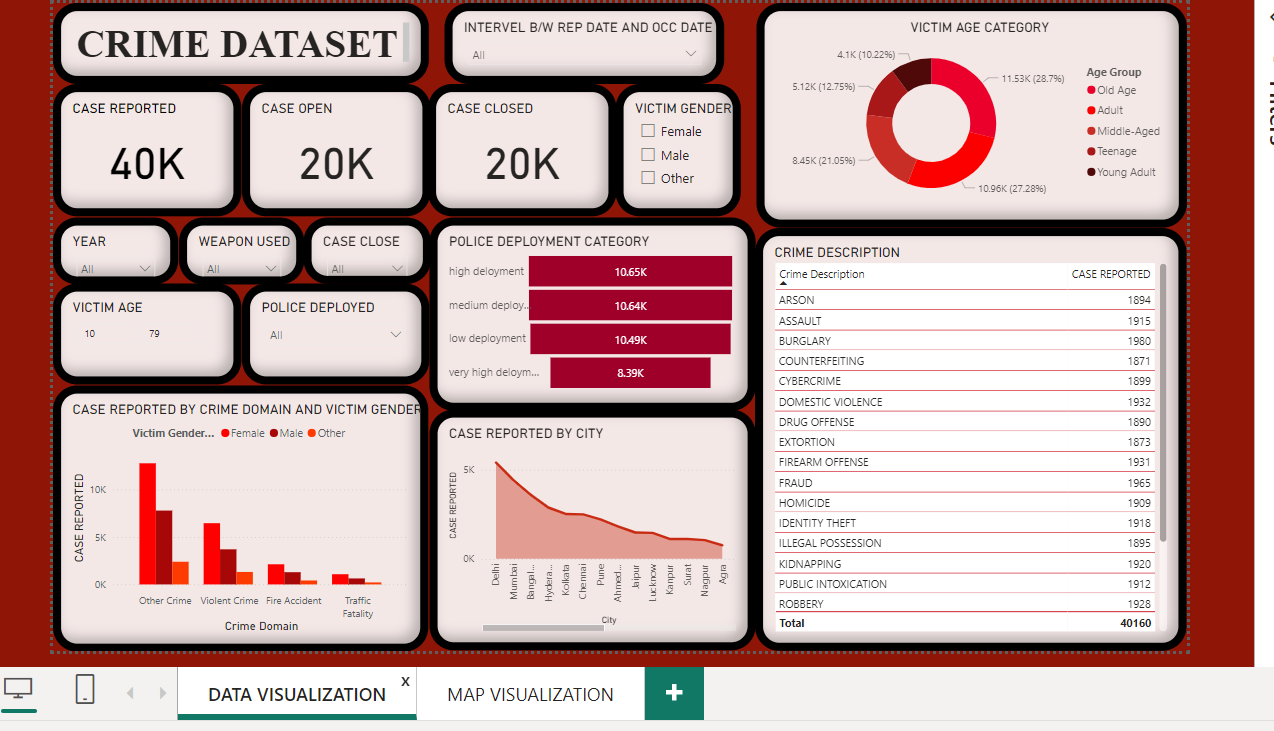

Layout of this report page (visuals, bound fields, positions):
{"tool":"powerbi","page":{"name":"DATA VISUALIZATION","canvas":[1400,800],"ordinal":0},"visuals":[{"type":"card","title":"CASE REPORTED","fields":{"Values":["measure.COUNT OF REPORT"]},"box":[0,100,232.5,163.6],"z":0},{"type":"card","title":"CASE CLOSED","fields":{"Values":["measure.CASE CLOSED"]},"box":[462.3,100,232.5,163.6],"z":1000},{"type":"card","title":"CASE OPEN","fields":{"Values":["measure.COUNT OF CASE OPEN"]},"box":[232.5,100,232.5,163.6],"z":2000},{"type":"slicer","title":"VICTIM GENDER","fields":{"Values":["crime_dataset_india.Victim Gender (groups)"]},"box":[694.8,100,154.5,163.6],"z":3000},{"type":"clusteredColumnChart","title":"CASE REPORTED BY CRIME DOMAIN AND VICTIM GENDER","fields":{"Y":["measure.COUNT OF REPORT"],"Category":["crime_dataset_india.Crime Domain"],"Series":["crime_dataset_india.Victim Gender (groups)"]},"box":[0,471.4,463.6,328.6],"z":4000},{"type":"slicer","title":"VICTIM AGE","fields":{"Values":["crime_dataset_india.Victim Age"]},"box":[0,346.8,232.5,124.7],"z":5000},{"type":"slicer","title":"YEAR","fields":{"Values":["crime_dataset_india.YEAR(REPORTED)"]},"box":[0,264,154.7,82.7],"z":6000},{"type":"tableEx","title":"CRIME DESCRIPTION","fields":{"Values":["crime_dataset_india.Crime Description","measure.CASE REPORTED"]},"box":[867.5,277.9,532.5,522.1],"z":7000},{"type":"slicer","title":"WEAPON USED","fields":{"Values":["crime_dataset_india.Weapon Used"]},"box":[154.7,264,154.7,82.7],"z":8000},{"type":"donutChart","title":"VICTIM AGE CATEGORY","fields":{"Category":["crime_dataset_india.Age Group"],"Y":["CountNonNull(crime_dataset_india.Victim Age)"]},"box":[848,0,552,278],"z":9000},{"type":"slicer","title":"POLICE DEPLOYED","fields":{"Values":["crime_dataset_india.Police Deployed"]},"box":[232.5,346.8,231.2,124.7],"z":10000},{"type":"textbox","box":[0,0,464,100],"z":11000},{"type":"funnel","title":"POLICE DEPLOYMENT CATEGORY","fields":{"Category":["crime_dataset_india.police category"],"Y":["CountNonNull(crime_dataset_india.Crime Domain)"]},"box":[464,264,402.7,238.7],"z":12000},{"type":"slicer","title":"INTERVEL B/W REP DATE AND OCC DATE","fields":{"Values":["crime_dataset_india.intervel b/w rep and occ date"]},"box":[483.1,0,345.5,100],"z":13000},{"type":"areaChart","title":"CASE REPORTED BY CITY","fields":{"Category":["crime_dataset_india.City"],"Y":["measure.CASE REPORTED"]},"box":[464.9,502.6,402.6,297.4],"z":14000},{"type":"slicer","title":"CASE CLOSE","fields":{"Values":["crime_dataset_india.Case Closed"]},"box":[309.1,264.9,157.1,81.8],"z":15000}]}

Visuals, with their boxes on the page's 1400x800 design canvas (x1, y1, x2, y2). These are canvas units, not pixel positions in the 1274x731 screenshot, which may show the page scaled, cropped or inside an application window:
"CASE REPORTED" card: x1=0 y1=100 x2=232 y2=264
"CASE CLOSED" card: x1=462 y1=100 x2=695 y2=264
"CASE OPEN" card: x1=232 y1=100 x2=465 y2=264
"VICTIM GENDER" slicer: x1=695 y1=100 x2=849 y2=264
"CASE REPORTED BY CRIME DOMAIN AND VICTIM GENDER" clusteredColumnChart: x1=0 y1=471 x2=464 y2=800
"VICTIM AGE" slicer: x1=0 y1=347 x2=232 y2=472
"YEAR" slicer: x1=0 y1=264 x2=155 y2=347
"CRIME DESCRIPTION" tableEx: x1=868 y1=278 x2=1400 y2=800
"WEAPON USED" slicer: x1=155 y1=264 x2=309 y2=347
"VICTIM AGE CATEGORY" donutChart: x1=848 y1=0 x2=1400 y2=278
"POLICE DEPLOYED" slicer: x1=232 y1=347 x2=464 y2=472
textbox: x1=0 y1=0 x2=464 y2=100
"POLICE DEPLOYMENT CATEGORY" funnel: x1=464 y1=264 x2=867 y2=503
"INTERVEL B/W REP DATE AND OCC DATE" slicer: x1=483 y1=0 x2=829 y2=100
"CASE REPORTED BY CITY" areaChart: x1=465 y1=503 x2=868 y2=800
"CASE CLOSE" slicer: x1=309 y1=265 x2=466 y2=347
